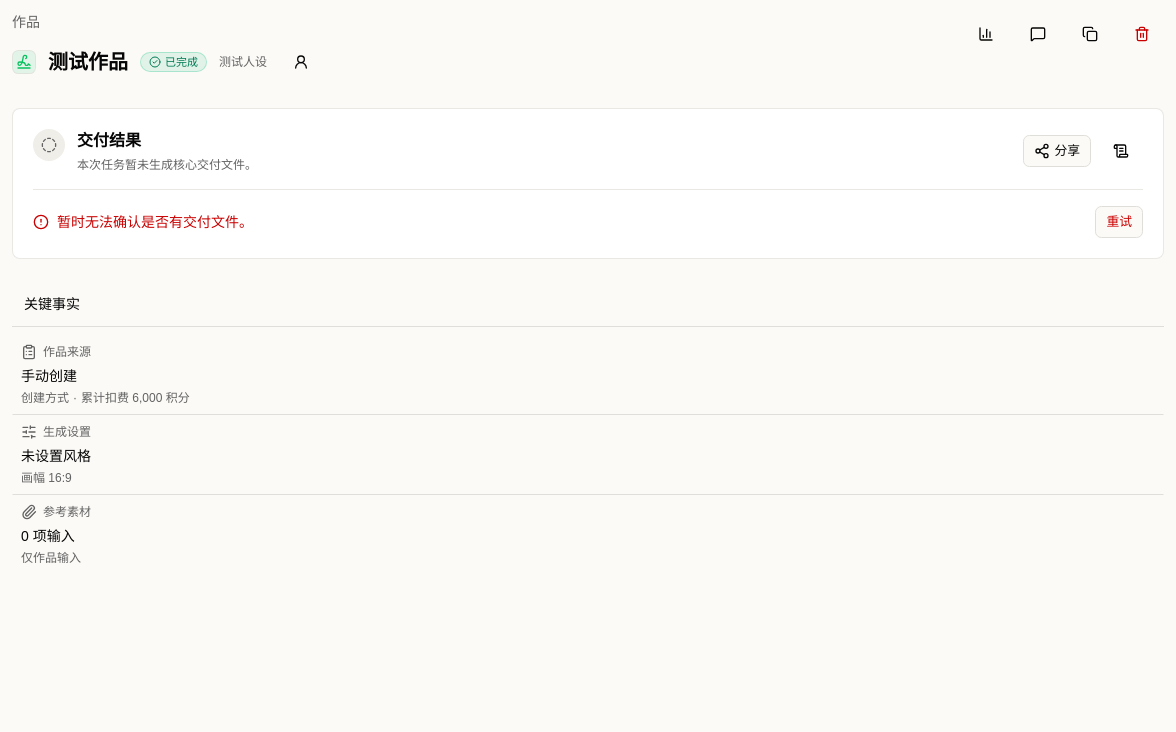
it: TaskDetailPage › distinguishes deliverable loading errors from an empty result and retries
Expected: the message shows "暂时无法确认是否有交付文件", [57, 214, 253, 230]
Click the button "重试": (1119,222) [1095, 206, 1143, 238]
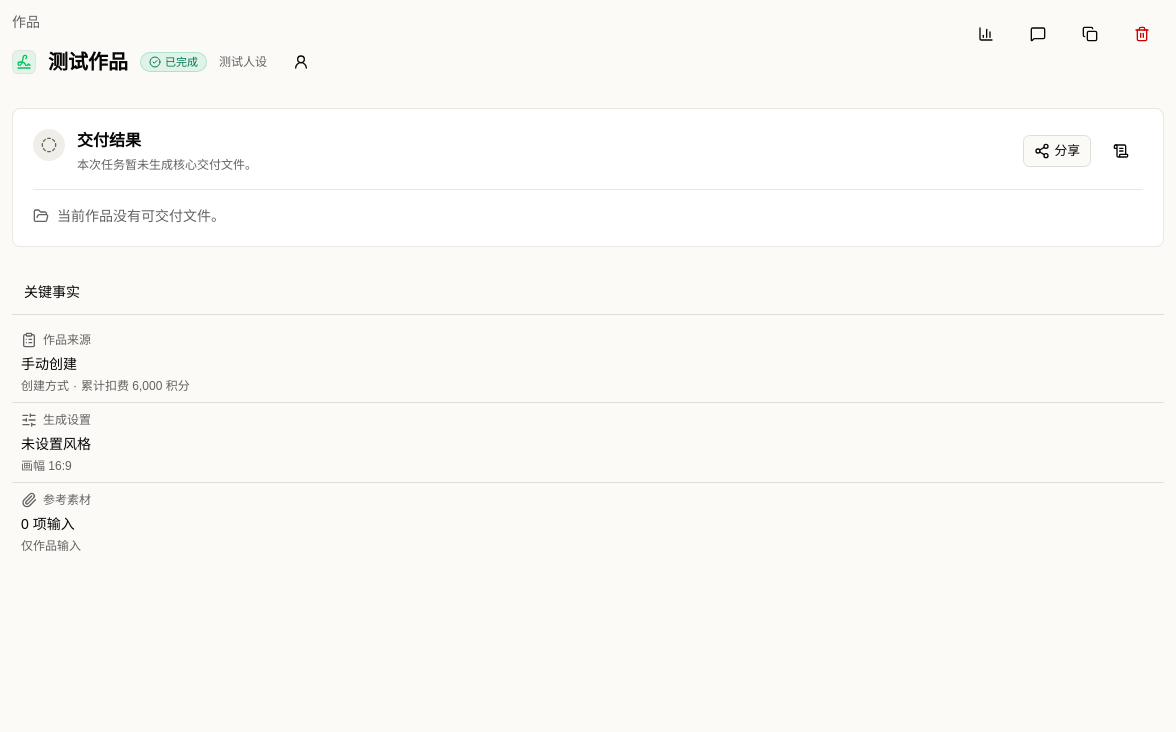
Expected: the text "当前作品没有可交付文件。" is shown, [33, 189, 1143, 226]
